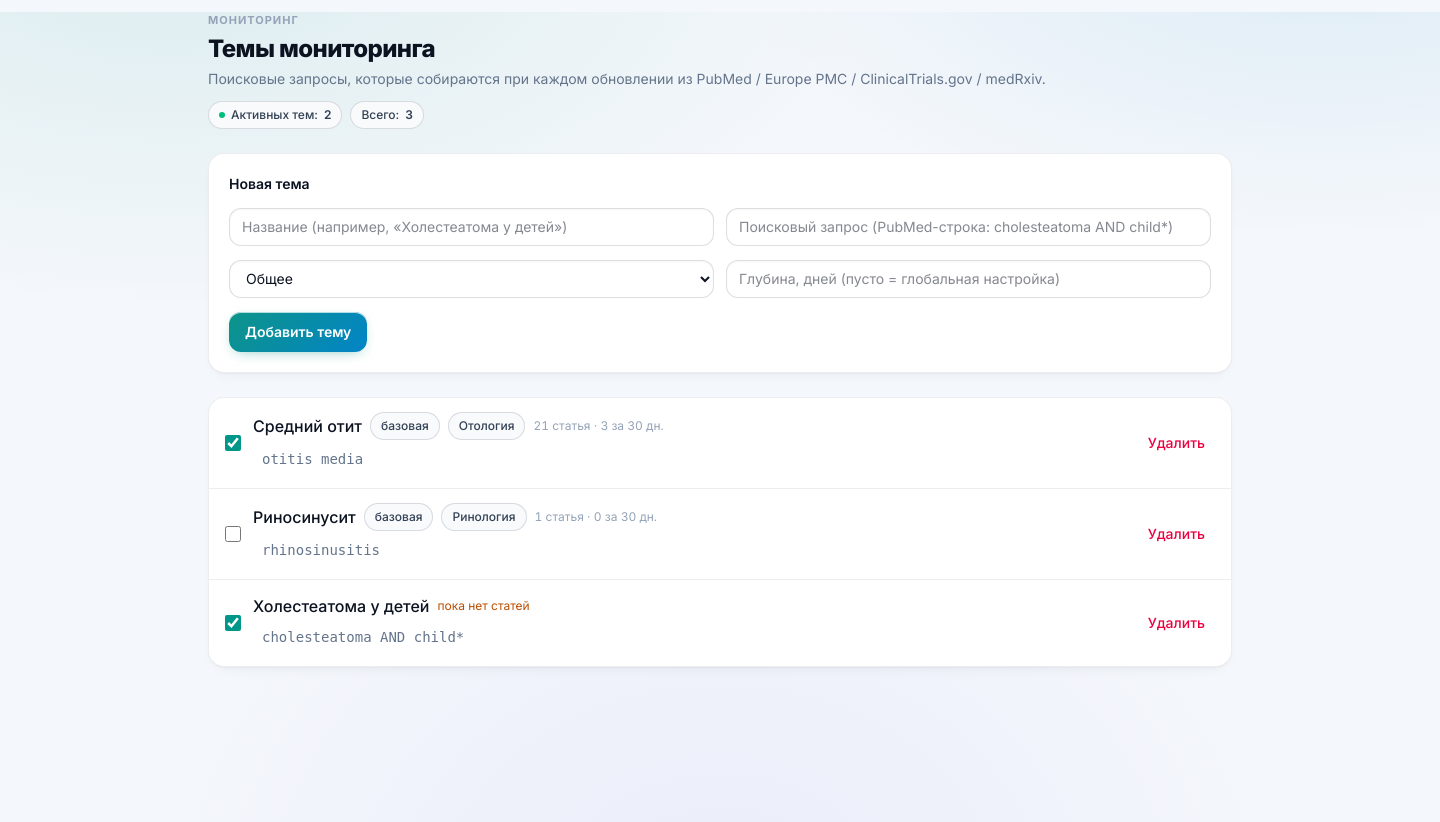
/topics (управление темами) › включение/выключение шлёт PATCH {enabled}; правка запроса сохраняется по blur и не шлётся без изменений
Expected: the text "Риносинусит" is shown, x1=253 y1=504 x2=356 y2=528
Click the checkbox named "Тема «Риносинусит» включена" at x=233, y=534, box x1=225 y1=526 x2=241 y2=542
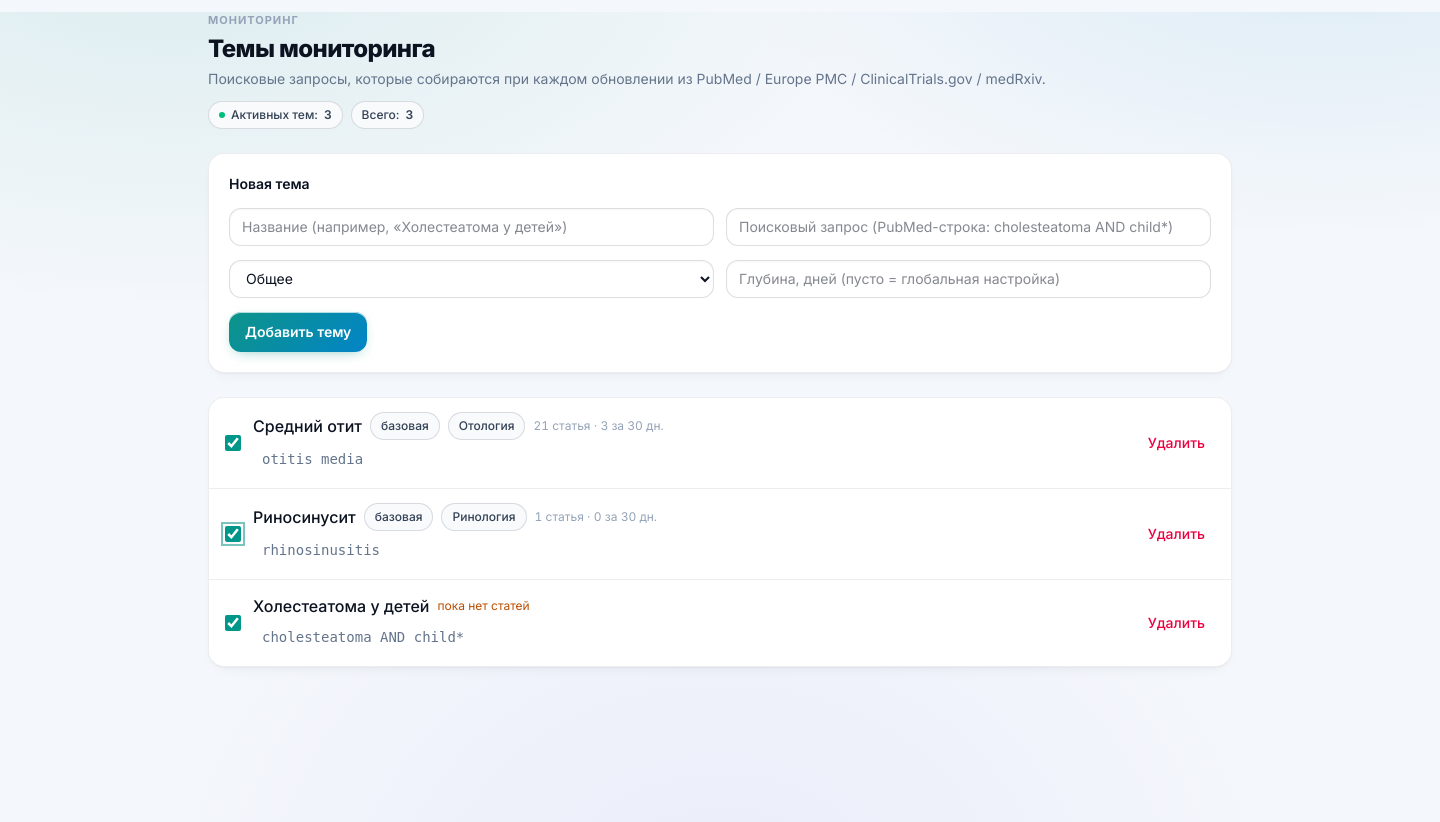
Now the checkbox named "Тема «Риносинусит» включена" is checked, box x1=225 y1=526 x2=241 y2=542
Click the field named "Поисковый запрос темы «Средний отит»" at x=689, y=458, box x1=253 y1=444 x2=1126 y2=474
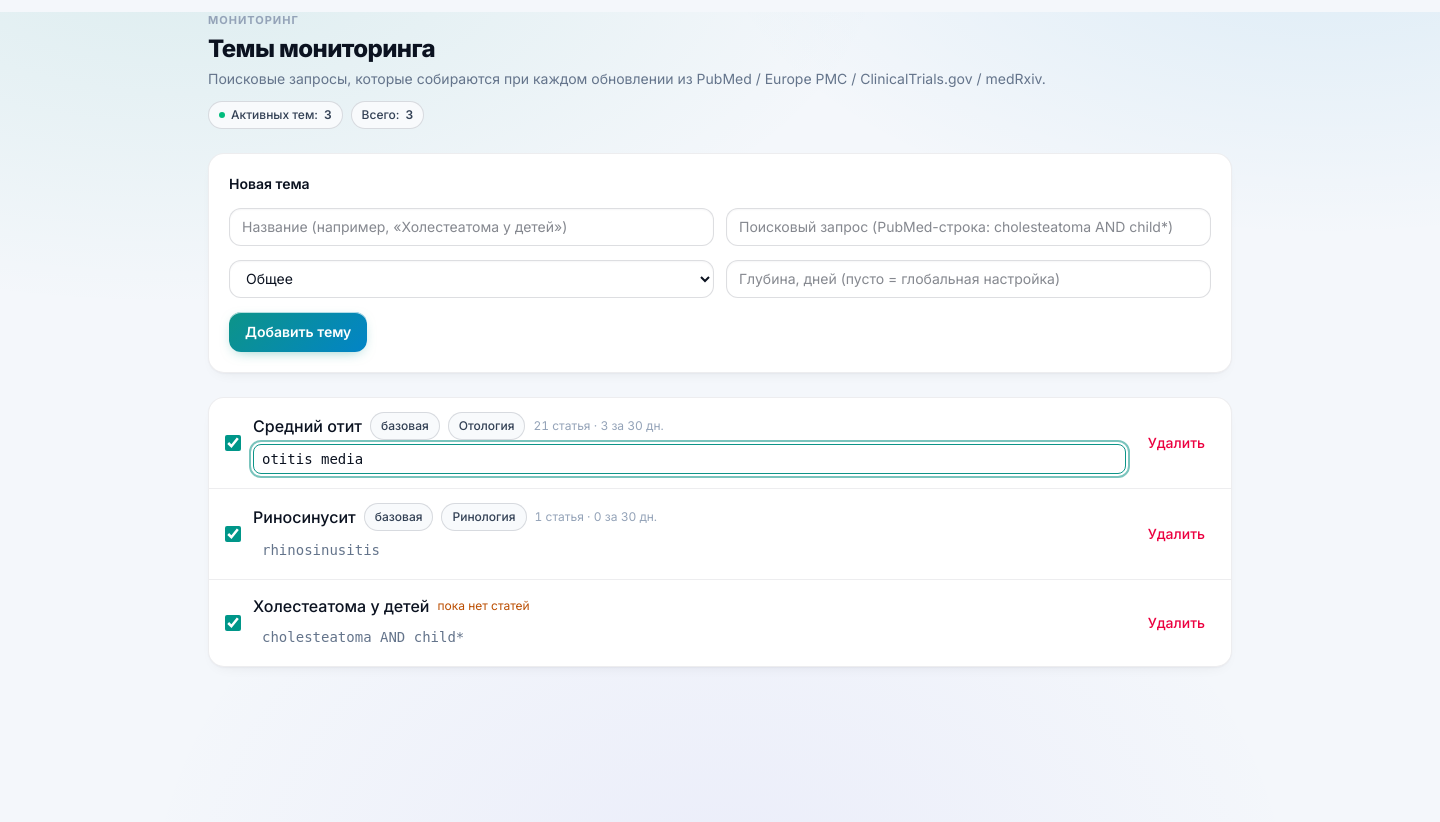
Press Tab
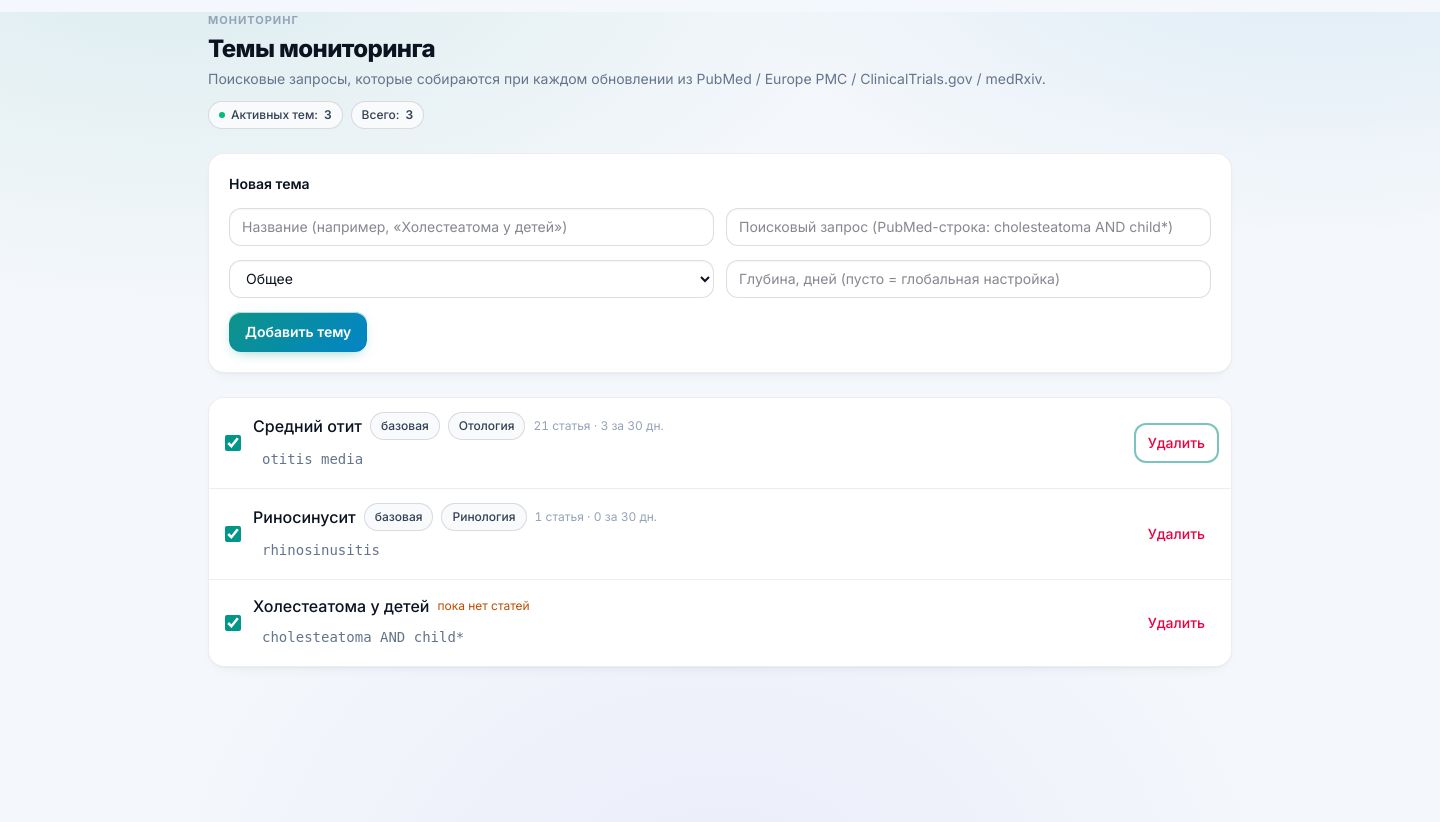
Replace the text in the field named "Поисковый запрос темы «Средний отит»" with "otitis media AND child*  " at x=689, y=458, box x1=253 y1=444 x2=1126 y2=474
Press Tab
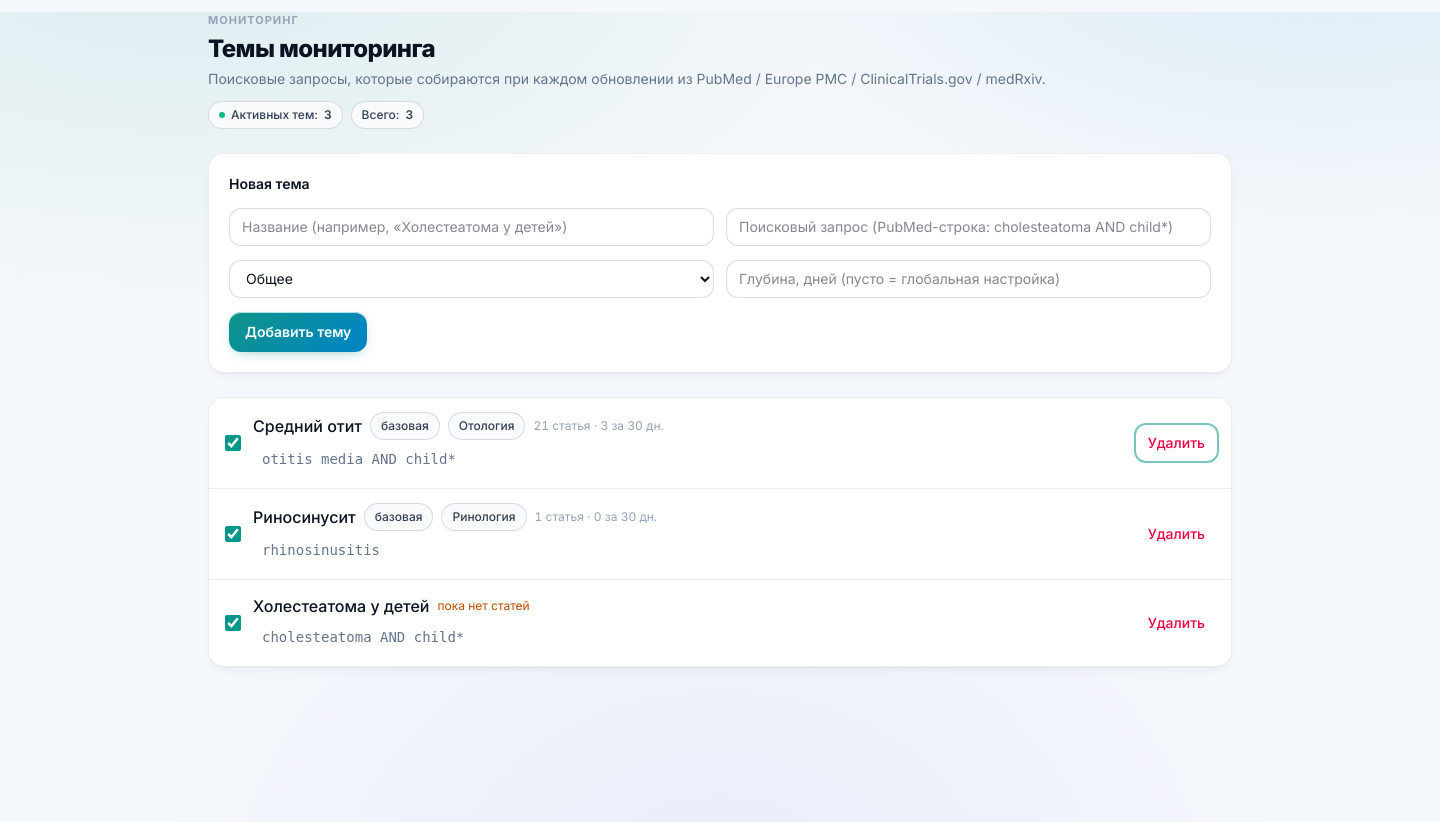
Now the field named "Поисковый запрос темы «Средний отит»" holds "otitis media AND child*"
Сломанный запрос сохраняется (сервер принимает), но строка сразу получает подсказку.
Replace the text in the field named "Поисковый запрос темы «Средний отит»" with "(otitis media AND" at x=689, y=458, box x1=253 y1=444 x2=1126 y2=474
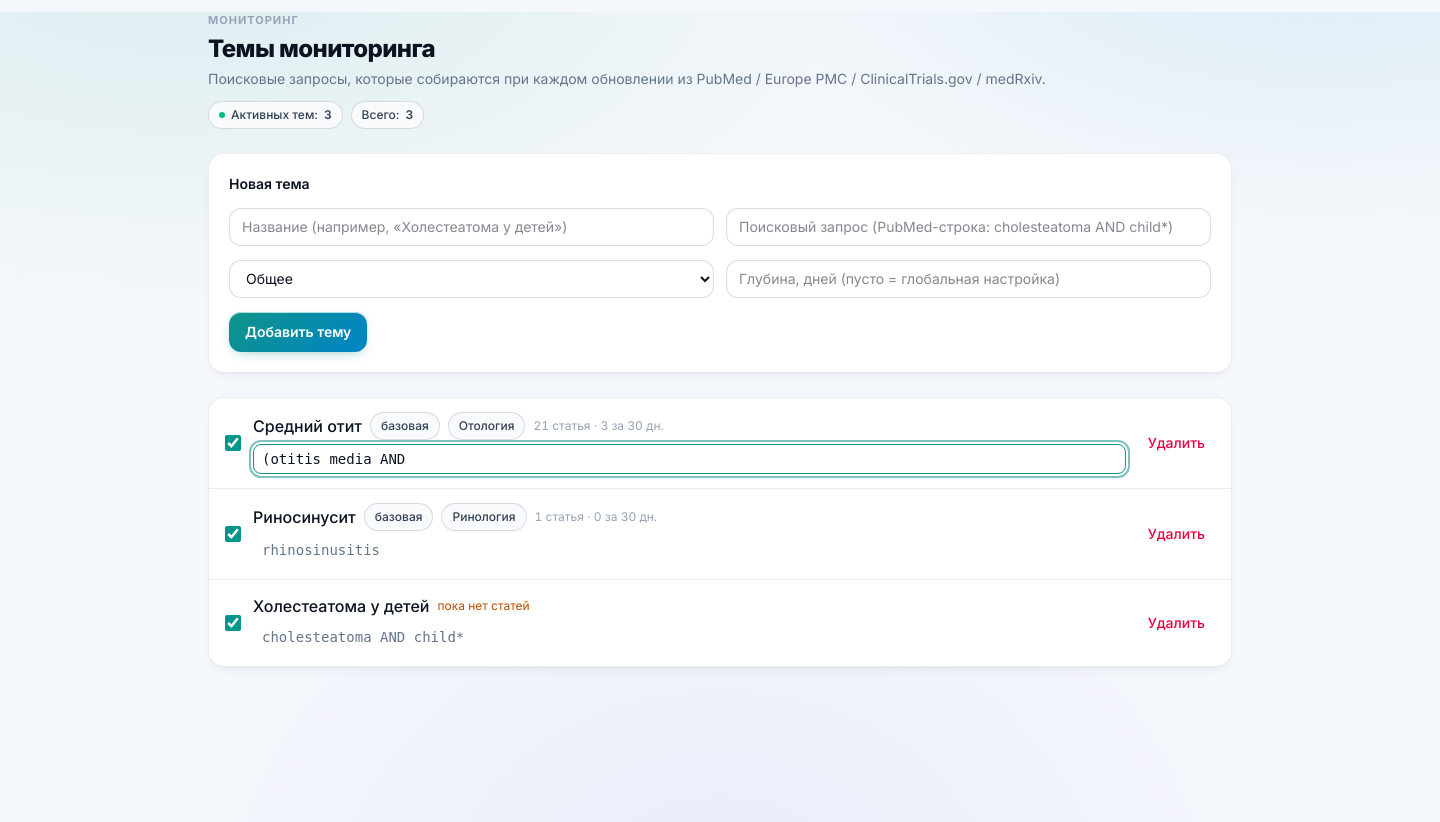
Press Tab
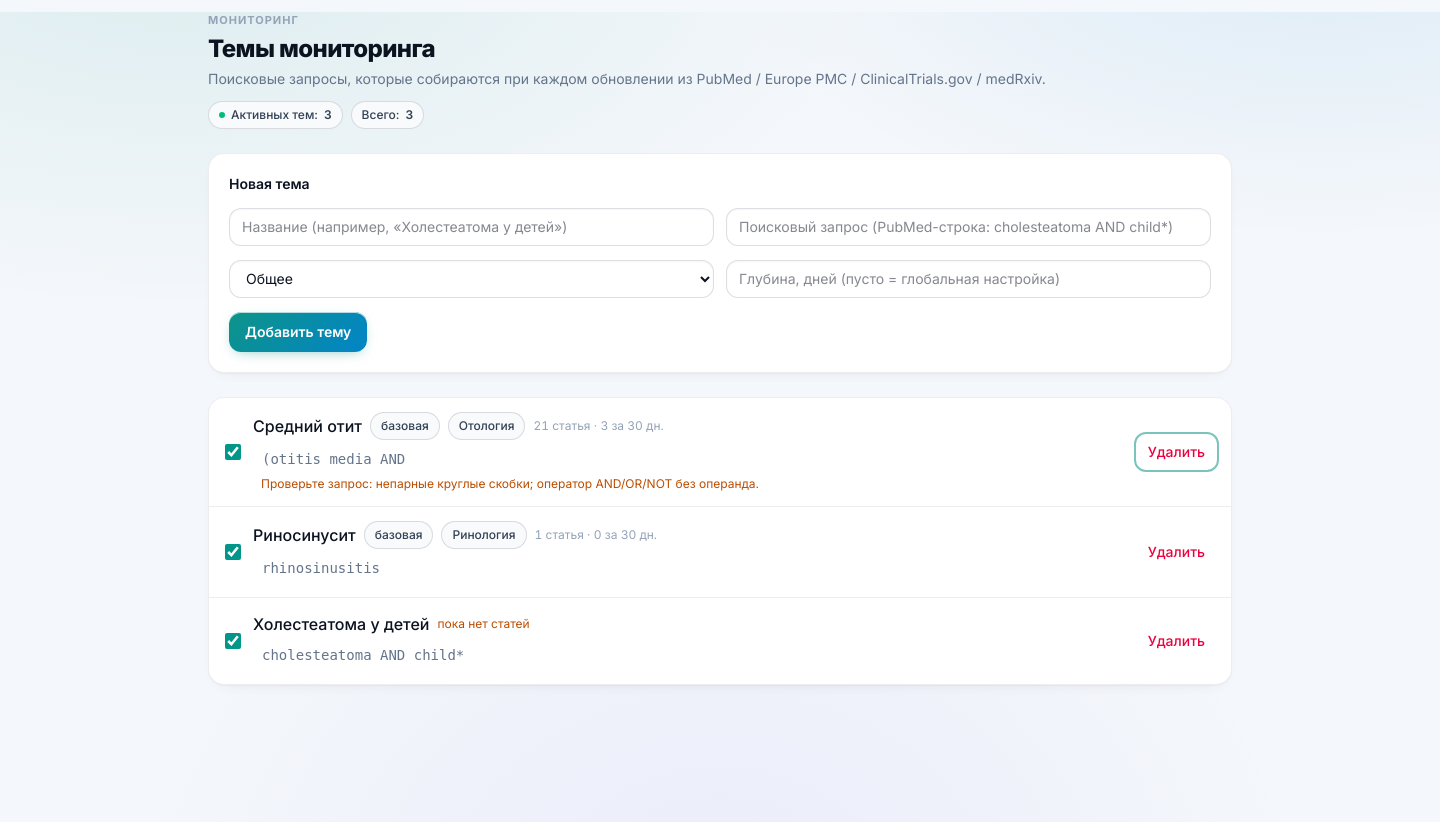
Now the message reads "Проверьте запрос: непарные круглые скобки; оператор AND/OR/NOT без операнда.", box x1=261 y1=476 x2=759 y2=490
